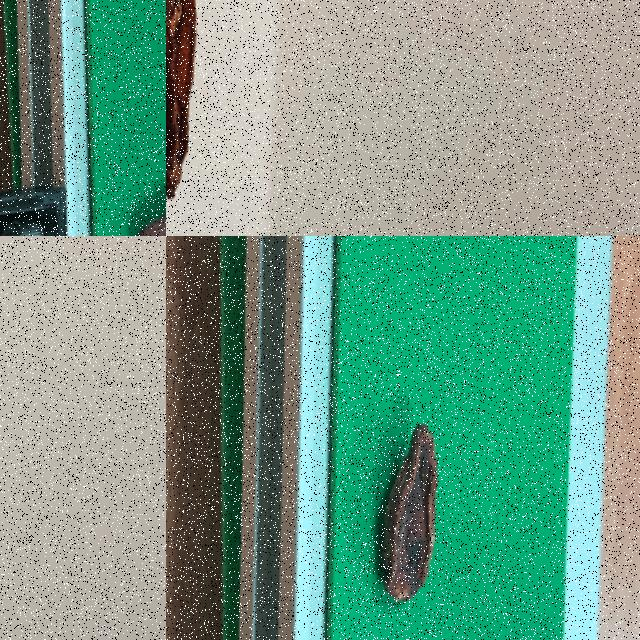Fine_cocoabeans: (91, 120, 165, 235)
Flat_cocoabeans: (345, 348, 478, 639), (166, 0, 256, 235)
